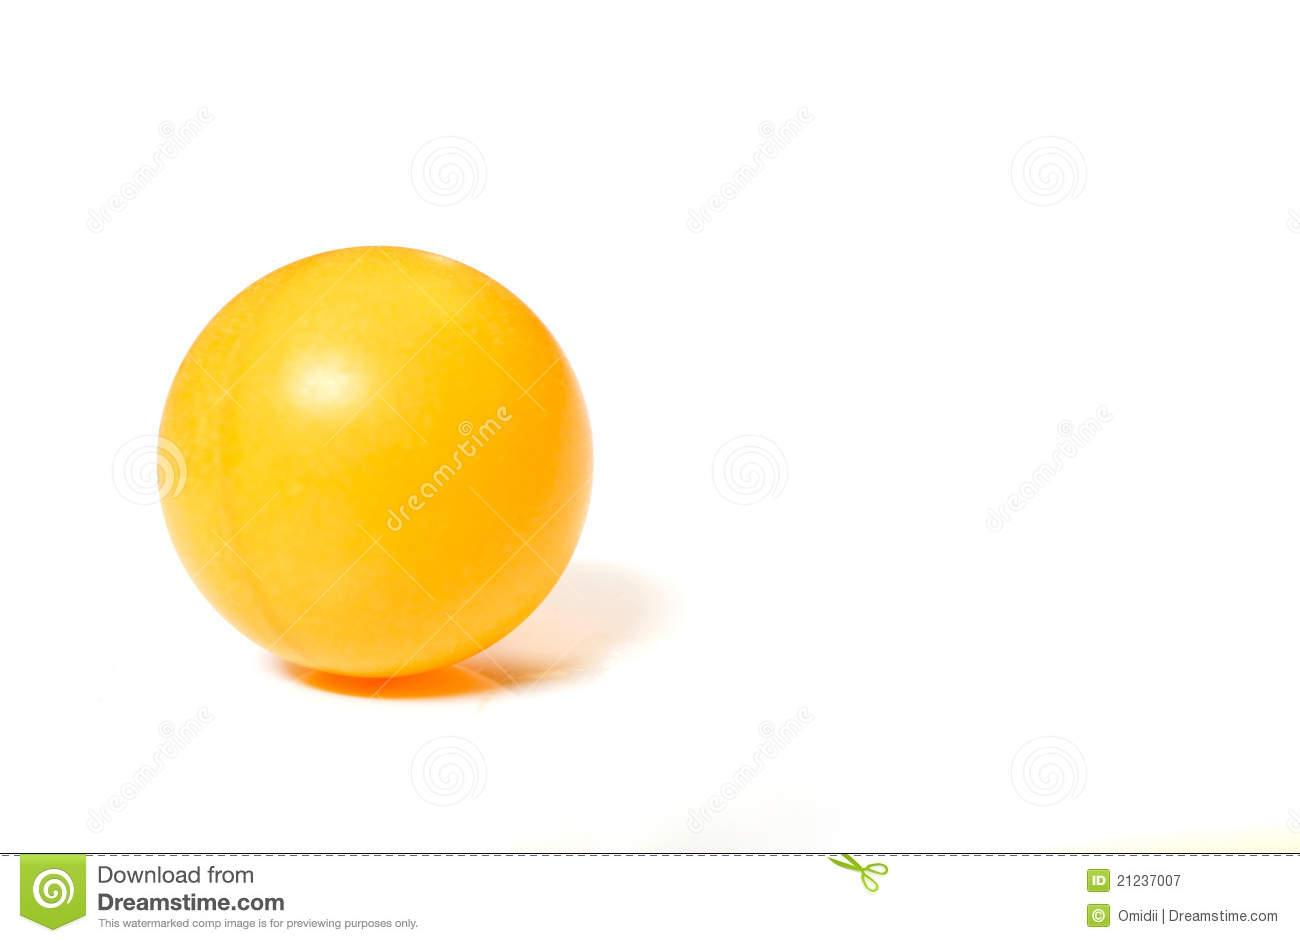oball: (142, 232, 620, 710)
